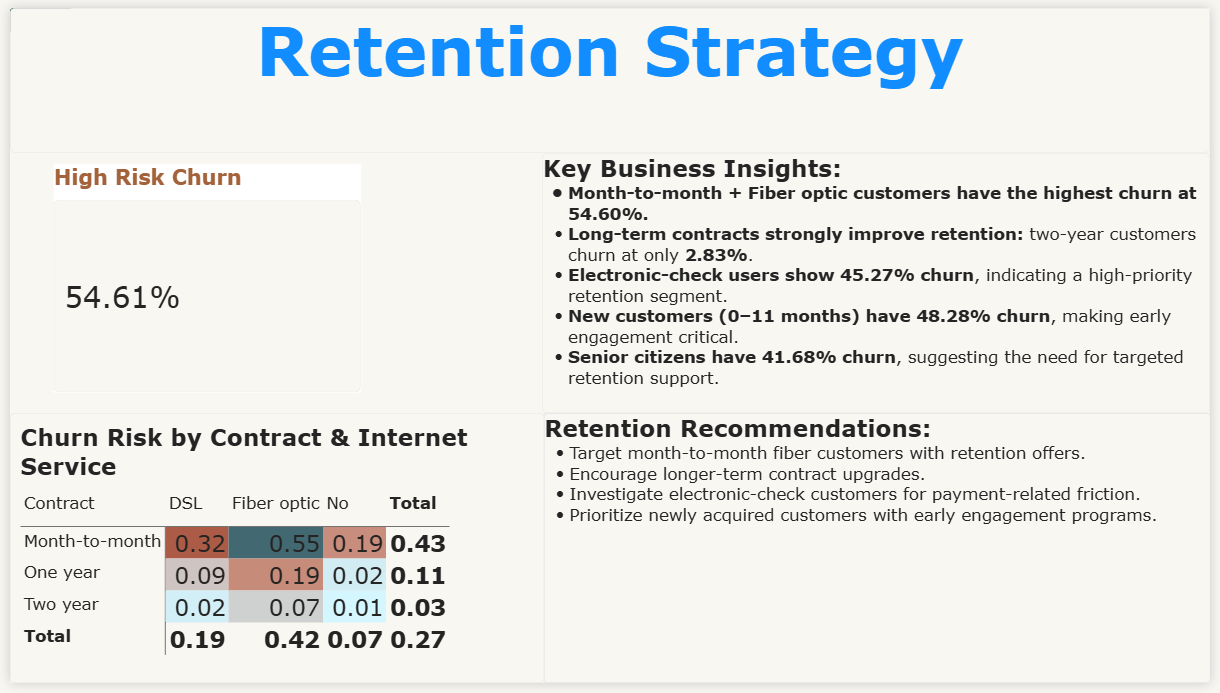

Layout of this report page (visuals, bound fields, positions):
{"tool":"powerbi","page":{"name":"Retention Strategy","canvas":[1920,1080],"ordinal":2},"visuals":[{"type":"pivotTable","title":"Churn Risk by Contract & Internet Service","fields":{"Rows":["customer_churn_cleaned.Contract"],"Columns":["customer_churn_cleaned.InternetService"],"Values":["customer_churn_cleaned.Churn Rate"]},"box":[0,647.8,855.2,431.9],"z":0},{"type":"actionButton","box":[0,0,100,40],"z":1000},{"type":"cardVisual","title":"High Risk Churn","fields":{"Data":["customer_churn_cleaned.High Risk Churn"]},"box":[70.6,250.2,491.8,365.6],"z":2000},{"type":"textbox","box":[853.1,647.8,1066.9,431.9],"z":3000},{"type":"textbox","box":[852.4,231.6,1067.7,416.2],"z":4000},{"type":"textbox","box":[0,0,1920,230.9],"z":4001}]}

Visuals, with their boxes in screenshot pixels (x1, y1, x2, y2), scaled from the page's 1920x1080 canvas onto the 1220x693 screenshot:
"Churn Risk by Contract & Internet Service" pivotTable: <bbox>0, 416, 543, 692</bbox>
actionButton: <bbox>0, 0, 64, 26</bbox>
"High Risk Churn" cardVisual: <bbox>45, 161, 357, 395</bbox>
textbox: <bbox>542, 416, 1219, 692</bbox>
textbox: <bbox>542, 149, 1219, 416</bbox>
textbox: <bbox>0, 0, 1219, 148</bbox>
